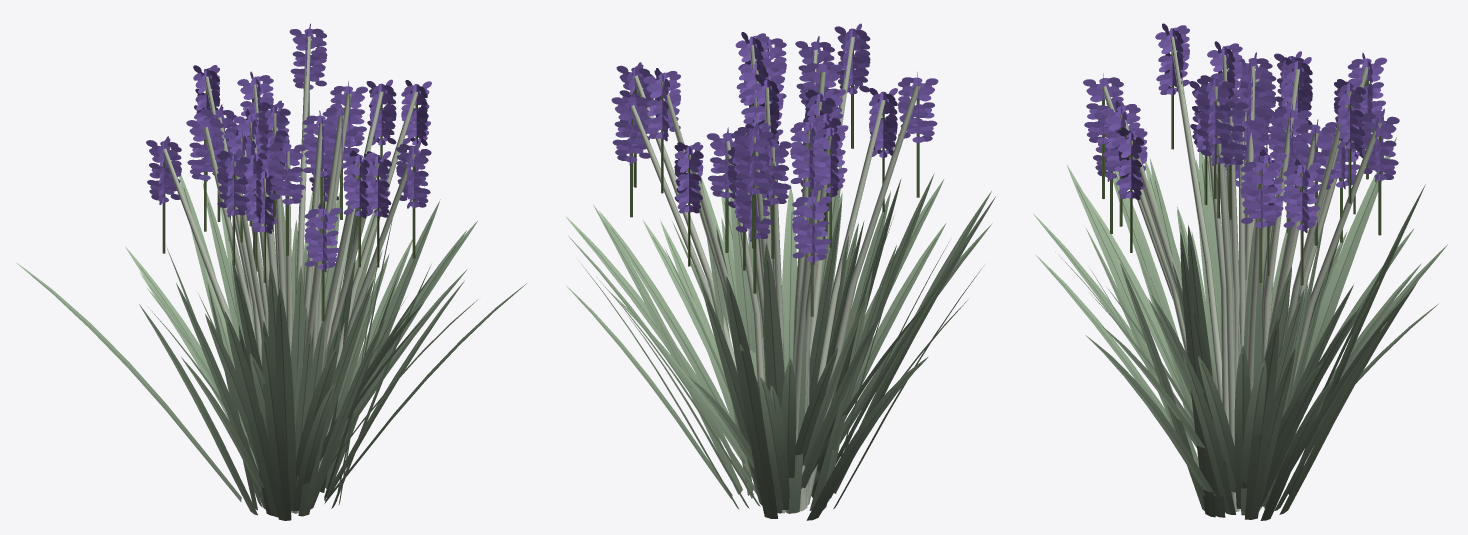
Rendered from lavandula-angustifolia.glb.
3 views of the same model, side by side, from view 1: azimuth 30°, elevation 25°; view 2: azimuth 150°, elevation 25°; view 3: azimuth 270°, elevation 25° (orthographic). The views are drawn at different scales.
Parts seen in each view (by area): view 1: folhas, flores, haste; view 2: folhas, flores, haste; view 3: folhas, flores, haste.
Boxes of the visible parts, x1,y1,x2,y2 form: folhas: [16, 175, 526, 520]; flores: [146, 23, 431, 320]; haste: [163, 36, 418, 513]; folhas: [566, 159, 995, 520]; flores: [611, 23, 938, 316]; haste: [631, 36, 920, 513]; folhas: [1033, 137, 1447, 520]; flores: [1083, 23, 1399, 285]; haste: [1101, 36, 1382, 511].
Size of the model in its own units: 0.6 by 0.6 by 0.5014.
3 materials, 2 textured.
